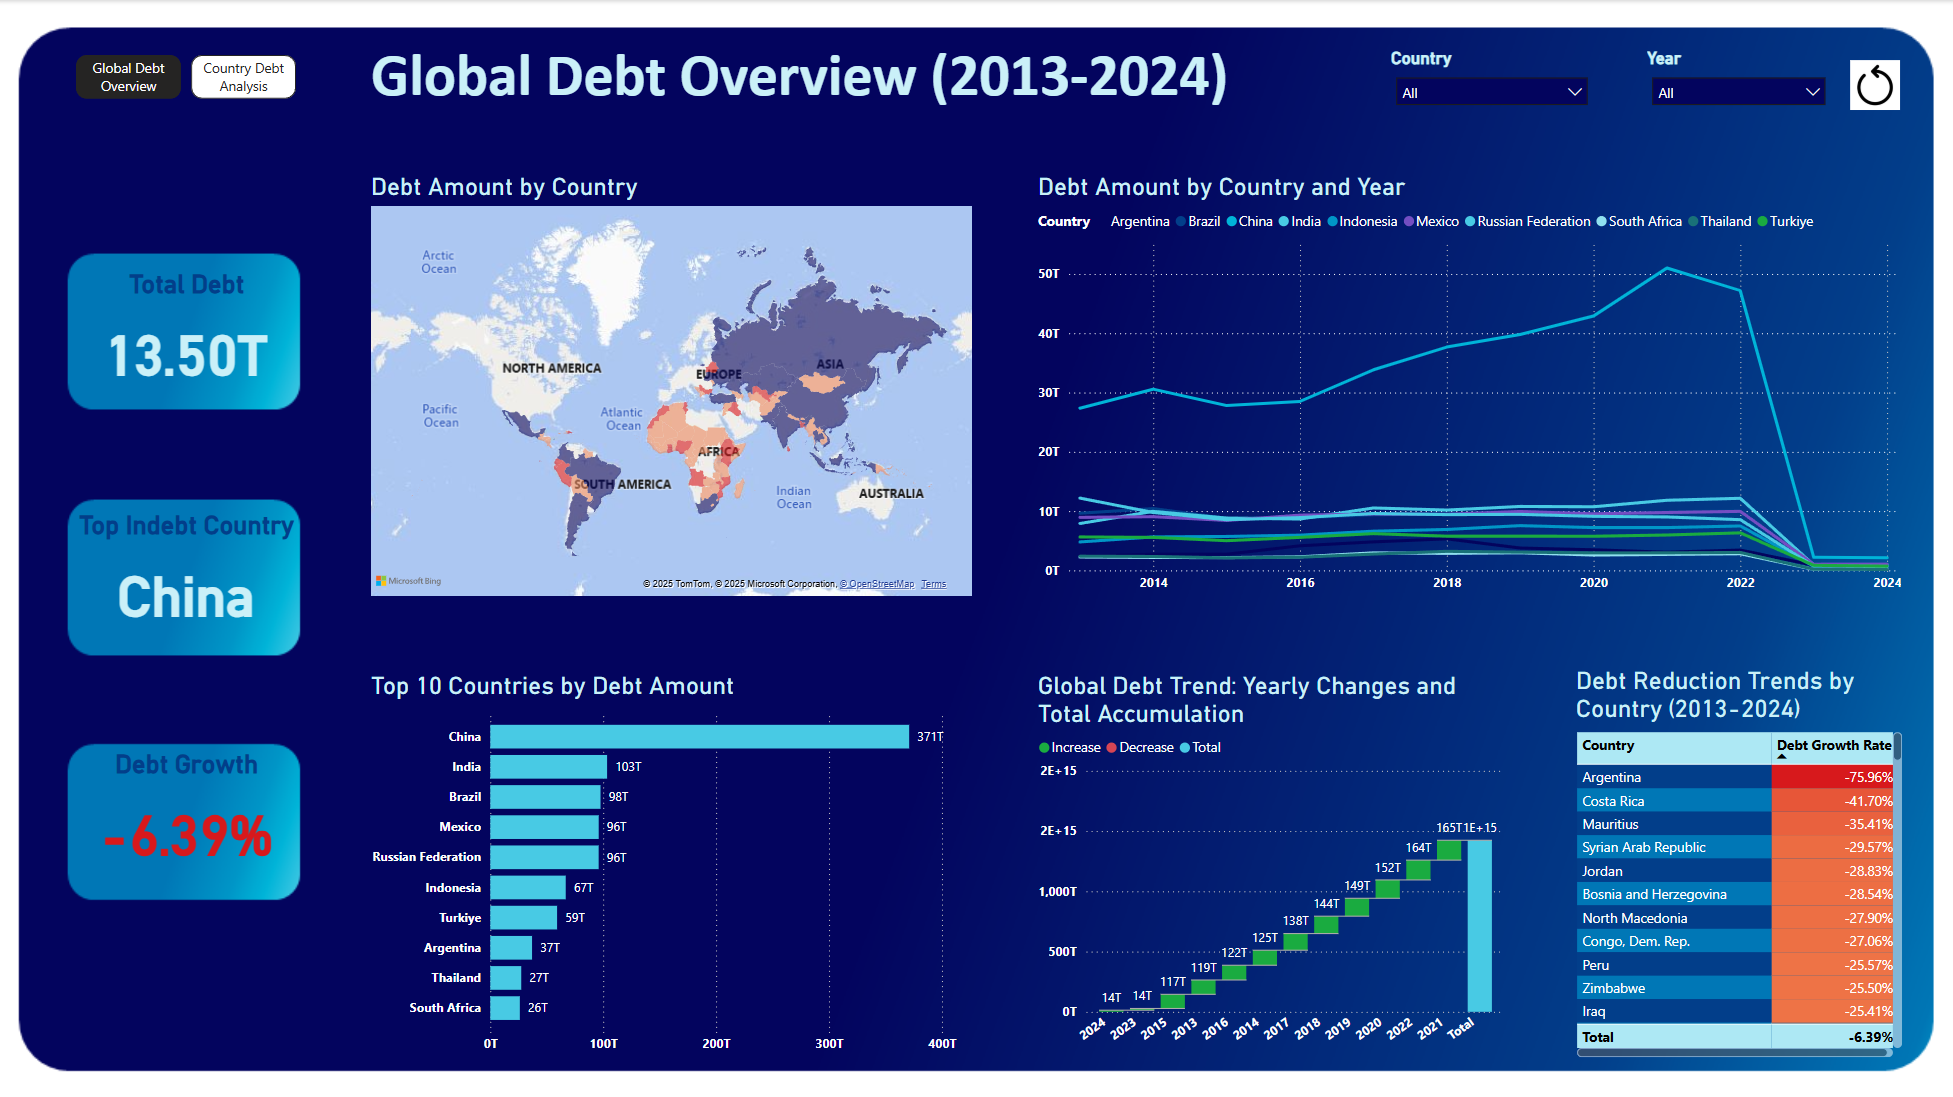

The page's visual inventory and layout, read from the dashboard file:
{"tool":"powerbi","page":{"name":"Global Debt Overview","canvas":[1920,1080],"ordinal":0},"visuals":[{"type":"filledMap","title":"Debt Amount by Country","fields":{"Category":["ids_database.country_name"]},"box":[360.2,169.8,599.8,420.1],"z":0},{"type":"clusteredBarChart","title":"Top 10 Countries by Debt Amount","fields":{"Category":["ids_database.country_name"],"Y":["Sum(ids_database.Debt Amount)"]},"box":[360.2,659.6,599.8,382.8],"z":1000},{"type":"lineChart","title":"Debt Amount by Country and Year","fields":{"Category":["ids_database.Year"],"Y":["Sum(ids_database.Debt Amount)"],"Series":["ids_database.country_name"]},"box":[1015.2,169.9,857.4,420.4],"z":2000},{"type":"slicer","title":"Year","fields":{"Values":["ids_database.Year"]},"box":[1612.8,47.1,190.4,69.7],"z":3000},{"type":"slicer","title":"Country","fields":{"Values":["ids_database.country_name"]},"box":[1361.5,47.1,208.1,69.7],"z":4000},{"type":"textbox","box":[360.2,32.4,874.6,100.1],"z":5000},{"type":"waterfallChart","title":"Global Debt Trend: Yearly Changes and Total Accumulation","fields":{"Y":["Sum(ids_database.Debt Amount)"],"Category":["ids_database.Year"]},"box":[1015.2,659.9,467.9,382.9],"z":6000},{"type":"tableEx","title":"Debt Reduction Trends by Country (2013-2024)","fields":{"Values":["ids_database.country_name","ids_database._Global_Debt_Growth"]},"box":[1542.6,654.3,329.9,388.4],"z":7000},{"type":"cardVisual","title":"Total Debt","fields":{"Data":["ids_database.Total_Global_Debt"]},"box":[61.8,263.7,245,136.8],"z":8000},{"type":"cardVisual","title":"Top Indebt Country","fields":{"Data":["ids_database.Top_Indebted_Country"]},"box":[61.8,501,245,136.8],"z":9000},{"type":"cardVisual","title":"Debt Growth","fields":{"Data":["ids_database._Global_Debt_Growth"]},"box":[61.8,734.9,245,136.8],"z":10000},{"type":"image","box":[1810.1,54,62.8,58.9],"z":11000},{"type":"pageNavigator","box":[75.3,53.6,217.8,43.3],"z":13001}]}

Visuals, with their boxes in screenshot pixels (x1, y1, x2, y2), scaled from the page's 1920x1080 canvas onto the 1953x1097 screenshot:
"Debt Amount by Country" filledMap: [x1=366, y1=172, x2=976, y2=599]
"Top 10 Countries by Debt Amount" clusteredBarChart: [x1=366, y1=670, x2=976, y2=1059]
"Debt Amount by Country and Year" lineChart: [x1=1033, y1=173, x2=1905, y2=600]
"Year" slicer: [x1=1641, y1=48, x2=1834, y2=119]
"Country" slicer: [x1=1385, y1=48, x2=1597, y2=119]
textbox: [x1=366, y1=33, x2=1256, y2=135]
"Global Debt Trend: Yearly Changes and Total Accumulation" waterfallChart: [x1=1033, y1=670, x2=1509, y2=1059]
"Debt Reduction Trends by Country (2013-2024)" tableEx: [x1=1569, y1=665, x2=1905, y2=1059]
"Total Debt" cardVisual: [x1=63, y1=268, x2=312, y2=407]
"Top Indebt Country" cardVisual: [x1=63, y1=509, x2=312, y2=648]
"Debt Growth" cardVisual: [x1=63, y1=746, x2=312, y2=885]
image: [x1=1841, y1=55, x2=1905, y2=115]
pageNavigator: [x1=77, y1=54, x2=298, y2=98]
